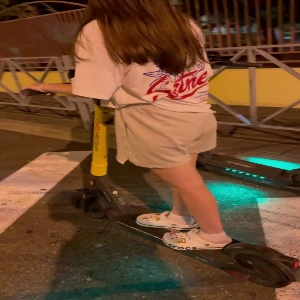human on a scooter: (19, 1, 300, 289)
